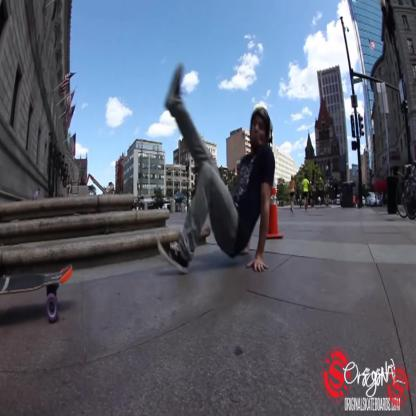Fall_Down: (157, 57, 277, 278)
